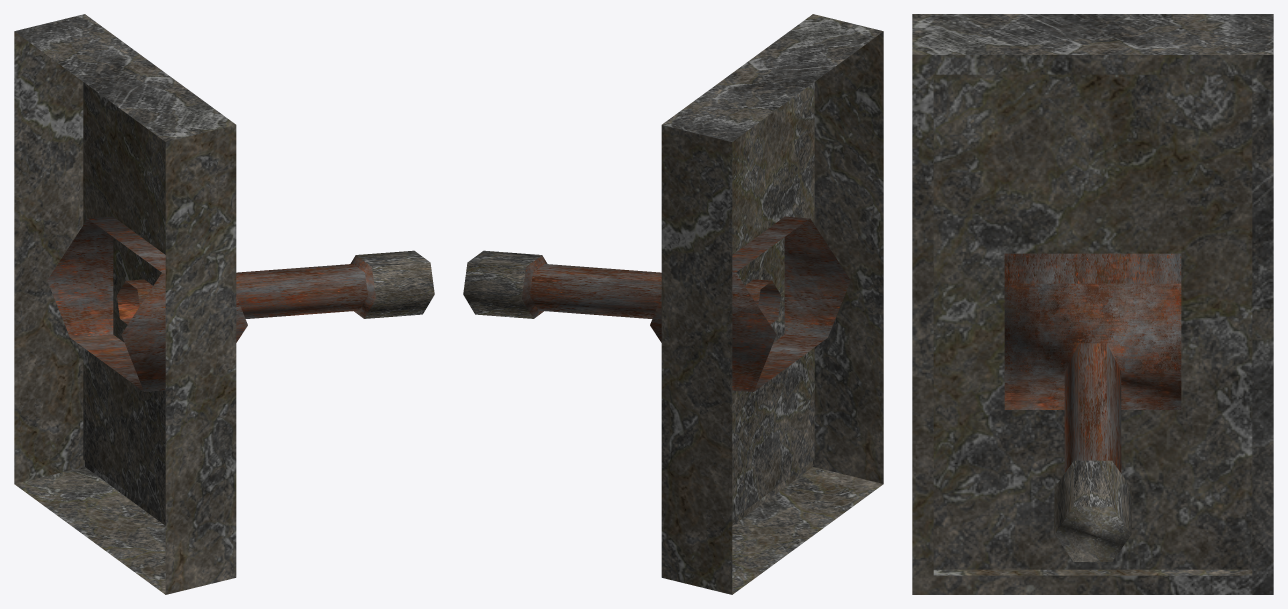
The model's file is lever_anim14.obj.
3 views of the same model, side by side, from view 1: azimuth 30°, elevation 25°; view 2: azimuth 150°, elevation 25°; view 3: azimuth 270°, elevation 25° (orthographic). The views are drawn at different scales.
Visible parts, largest first — view 1: Cube, Cylinder; view 2: Cube, Cylinder; view 3: Cube, Cylinder.
Boxes of the visible parts, <box> form: Cube: <box>14,14,236,594</box>; Cylinder: <box>47,216,434,391</box>; Cube: <box>661,14,883,594</box>; Cylinder: <box>463,216,850,391</box>; Cube: <box>912,14,1273,594</box>; Cylinder: <box>1004,253,1181,561</box>.
Bounding box in the file's own units: 1.56 × 2 × 1.21.
Materials: 2 (2 with a texture image).
